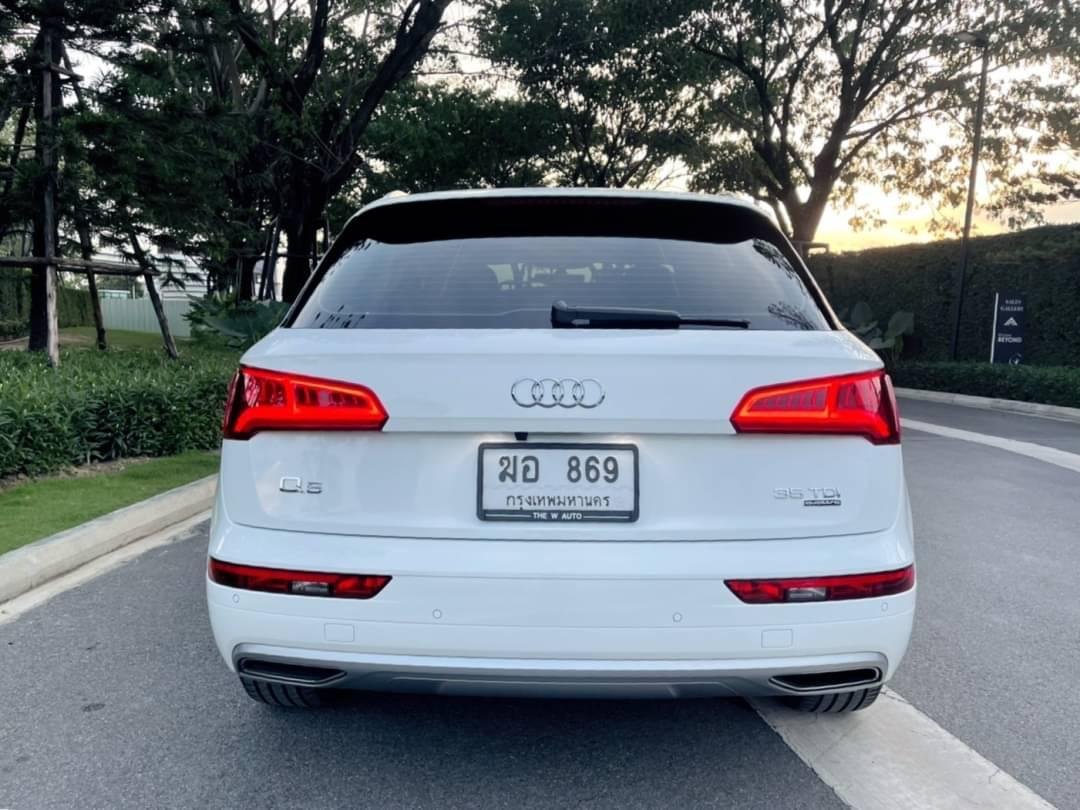license-plate: (475, 437, 643, 527)
